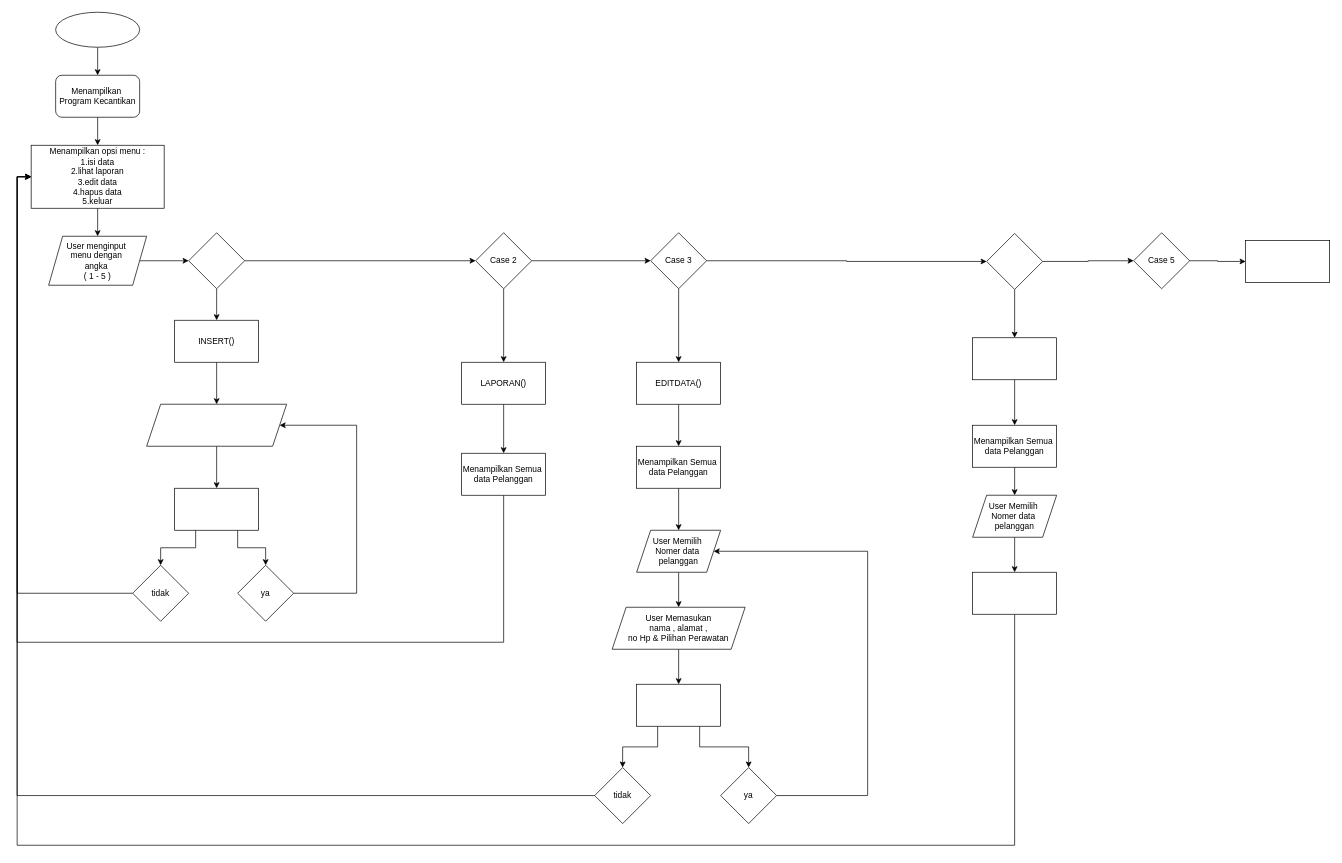
Image size: 1342x863. Some labels were removed from this diagram. The shapes that lost their labels are listed below. From the top down, each one's centre as x and y in pixels, then its label:
point 97,29: MULAI
point 216,260: Case 1
point 1014,261: Case 4
point 1287,261: PROGRAM KELUAR
point 1014,358: HAPUS()
point 216,425: Input data pelanggan: Nama, Alamat, No. HP, Pilihan Perawatan.
point 216,509: data berhasil di tambahkan, apakah ingin menambah data?
point 1014,593: Data pelanggan di hapus
point 678,705: Data Berhasil Di perbarui, Lanjut?
